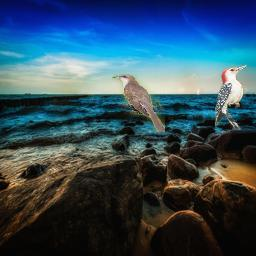Cuckoo: (113, 74, 166, 132)
Woodpecker: (216, 64, 249, 130)
